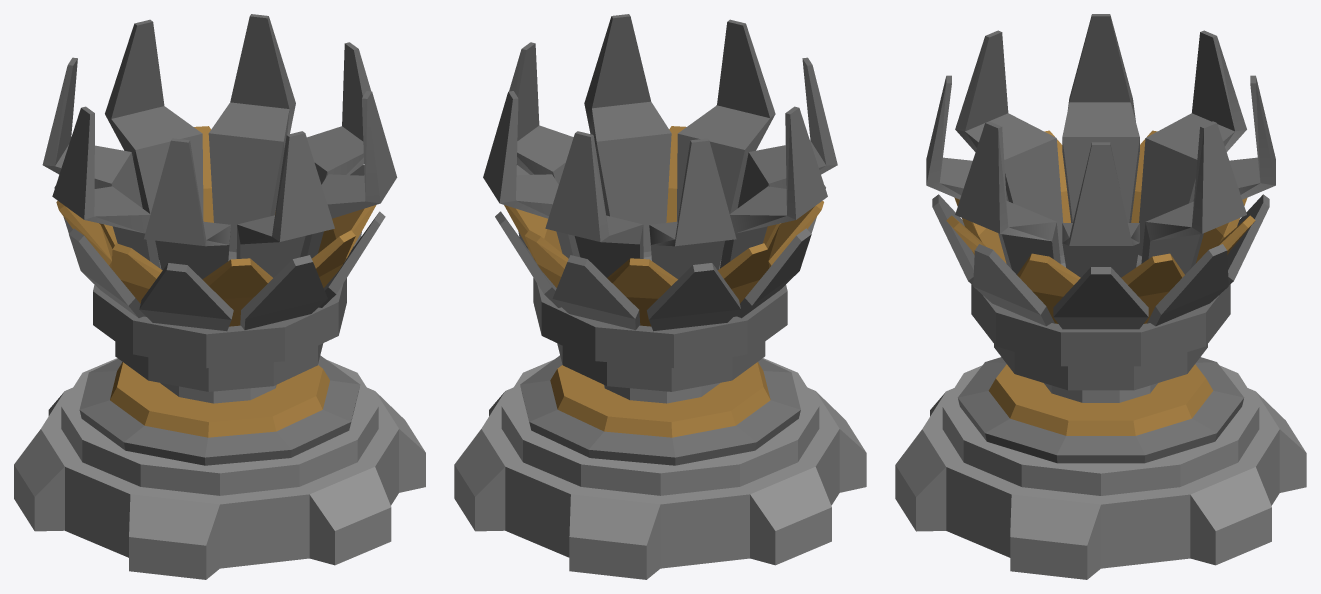
Rendered from kit_teleporter_2.glb.
3 views of the same model, side by side, from view 1: azimuth 30°, elevation 25°; view 2: azimuth 150°, elevation 25°; view 3: azimuth 270°, elevation 25° (orthographic).
Parts seen in each view (by area): view 1: kit_teleporter_2; view 2: kit_teleporter_2; view 3: kit_teleporter_2.
Boxes of the visible parts, x1,y1,x2,y2 form: kit_teleporter_2: (14, 14, 425, 579); kit_teleporter_2: (454, 14, 866, 579); kit_teleporter_2: (895, 14, 1306, 579).
Size of the model in its own units: 1.21 by 1.34 by 1.21.
